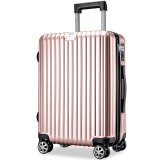luggage: (34, 0, 129, 160)
